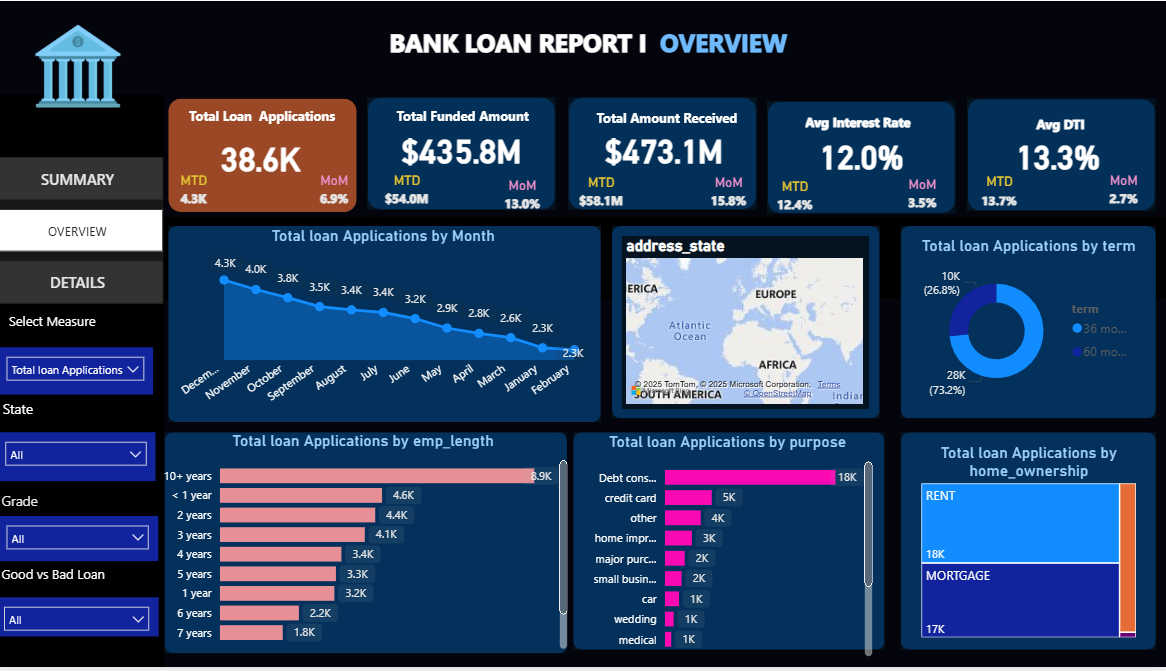

The dashboard page shown, as its layout file describes it:
{"tool":"powerbi","page":{"name":"OVERVIEW","canvas":[1280,720],"ordinal":1},"visuals":[{"type":"shape","box":[0,233.6,1280.2,88],"z":0},{"type":"shape","box":[0,101.4,192,619.2],"z":1000},{"type":"shape","box":[195.4,105,203.9,123.1],"z":2000},{"type":"textbox","box":[421,21.7,459.7,48.3],"z":3000},{"type":"card","fields":{"Values":["bank loan.Total loan Applications"]},"box":[207.5,125.5,178.6,86.9],"z":4000},{"type":"textbox","box":[213.5,109.8,183.4,29],"z":5000},{"type":"card","title":"MTD","fields":{"Values":["bank loan.MTD Loan Applications"]},"box":[188.2,184.6,71.2,44.6],"z":6000},{"type":"shape","box":[411.4,103.8,203.9,121.9],"z":7000},{"type":"card","title":"MoM","fields":{"Values":["bank loan.MoM Loan Applications"]},"box":[339,185.8,72.4,44.6],"z":8000},{"type":"card","fields":{"Values":["bank loan.Total Funded Amount"]},"box":[424.7,115.8,177.3,86.9],"z":9000},{"type":"textbox","box":[437.9,109.8,183.4,29],"z":10000},{"type":"card","title":"MTD","fields":{"Values":["bank loan.MTD Funded Amount"]},"box":[424.7,184.6,59.1,44.6],"z":11000},{"type":"shape","box":[628.6,103.8,203.9,121.9],"z":12000},{"type":"card","title":"MoM","fields":{"Values":["bank loan.MoM Total Funded Amount"]},"box":[544.1,190.6,71.2,44.6],"z":13000},{"type":"card","fields":{"Values":["bank loan.Total Amount Received"]},"box":[643,115.8,177.3,86.9],"z":14000},{"type":"textbox","box":[653.9,112.2,183.4,29],"z":15000},{"type":"card","title":"MTD","fields":{"Values":["bank loan.MTD Total Amount Recived"]},"box":[628.6,188.2,71.2,44.6],"z":16000},{"type":"card","title":"MoM","fields":{"Values":["bank loan.MoM Total Amount Recived"]},"box":[766.1,188.2,71.2,44.6],"z":17000},{"type":"shape","box":[843.3,108.6,203.9,121.9],"z":18000},{"type":"card","fields":{"Values":["bank loan.Avg Intrest Rate"]},"box":[856.6,123.1,177.3,86.9],"z":19000},{"type":"textbox","box":[874.7,141.2,142.4,35],"z":20000},{"type":"card","title":"MTD","fields":{"Values":["bank loan.MTD Avg Int Rate"]},"box":[838.5,191.8,71.2,44.6],"z":21000},{"type":"card","title":"MoM","fields":{"Values":["bank loan.MoM Avg Int Rate"]},"box":[976,189.4,71.2,44.6],"z":22000},{"type":"shape","box":[1059.3,105,203.9,121.9],"z":23000},{"type":"card","fields":{"Values":["bank loan.Avg DTI"]},"box":[1069.5,123.3,177.8,86],"z":24000},{"type":"textbox","box":[880.7,115.8,142.4,35],"z":25000},{"type":"textbox","box":[894.7,161.2,142.4,35],"z":26000},{"type":"card","title":"MTD","fields":{"Values":["bank loan.MTD Avg DTI"]},"box":[1059.3,187,70,41],"z":27000},{"type":"card","title":"MoM","fields":{"Values":["bank loan.MoM Avg DTI"]},"box":[1193.2,184.6,71.2,44.6],"z":28000},{"type":"textbox","box":[1068.9,119.4,183.4,29],"z":29000},{"type":"textbox","box":[240.1,259.4,171.3,29],"z":30000},{"type":"textbox","box":[884.3,150.8,138.7,36.2],"z":31000},{"type":"textbox","box":[876,156.3,139.1,35.8],"z":32000},{"type":"textbox","box":[766.1,254.6,174.9,30.2],"z":33000},{"type":"textbox","box":[240.1,486.2,146,30.2],"z":34000},{"type":"slicer","fields":{"Values":["bank loan.address_state"]},"box":[9.5,466.4,173,52.7],"z":35000},{"type":"textbox","box":[12.2,425.9,67.6,29.7],"z":36000},{"type":"slicer","fields":{"Values":["bank loan.grade"]},"box":[10.8,557,174.4,48.7],"z":37000},{"type":"textbox","box":[10.8,525.9,67.6,31.1],"z":38000},{"type":"slicer","fields":{"Values":["bank loan.Good v Bad Loan"]},"box":[8.4,644.2,177.3,42.2],"z":39000},{"type":"textbox","box":[10.8,605.7,181.2,50],"z":40000},{"type":"shape","box":[196,243.3,467.8,212.3],"z":41000},{"type":"areaChart","fields":{"Y":["bank loan.Total loan Applications"],"Category":["bank loan.Month"]},"box":[202.8,243.3,451.5,208.2],"z":42000},{"type":"slicer","fields":{"Values":["Parameter.Parameter"]},"box":[10.8,374.5,169,51.4],"z":43000},{"type":"textbox","box":[14.9,331.2,116.3,28.4],"z":44000},{"type":"shape","box":[676,243.3,289.3,208.2],"z":45000},{"type":"shape","box":[988.3,243.3,275.8,208.2],"z":46000},{"type":"shape","box":[192,466.4,435.3,239.3],"z":47000},{"type":"barChart","fields":{"Y":["bank loan.Total loan Applications"],"Category":["bank loan.emp_length"]},"box":[181.2,465.1,451.5,240.6],"z":48000},{"type":"shape","box":[634.1,466.4,336.6,235.2],"z":49000},{"type":"barChart","fields":{"Y":["bank loan.Total loan Applications"],"Category":["bank loan.purpose"]},"box":[639.5,466.4,323.1,247.4],"z":50000},{"type":"shape","box":[988.3,466.4,275.8,235.2],"z":51000},{"type":"treemap","fields":{"Values":["bank loan.Total loan Applications"],"Group":["bank loan.home_ownership"]},"box":[1005.8,478.6,242,215],"z":52000},{"type":"image","box":[0,0,196,140.6],"z":53000},{"type":"filledMap","fields":{"Category":["bank loan.address_state"]},"box":[686.8,254.2,266.3,186.6],"z":54000},{"type":"donutChart","fields":{"Y":["bank loan.Total loan Applications"],"Category":["bank loan.term"]},"box":[1005.8,254.2,242,186.6],"z":55000},{"type":"pageNavigator","box":[5.4,169,185.2,158.2],"z":55001}]}

Visuals, with their boxes in screenshot pixels (x1, y1, x2, y2), scaled from the page's 1280x720 canvas onto the 1166x671 screenshot:
shape: region(0, 218, 1165, 300)
shape: region(0, 94, 175, 670)
shape: region(178, 98, 364, 213)
textbox: region(384, 20, 802, 65)
card - bank loan.Total loan Applications: region(189, 117, 352, 198)
textbox: region(194, 102, 362, 129)
"MTD" card: region(171, 172, 236, 214)
shape: region(375, 97, 560, 210)
"MoM" card: region(309, 173, 375, 215)
card - bank loan.Total Funded Amount: region(387, 108, 548, 189)
textbox: region(399, 102, 566, 129)
"MTD" card: region(387, 172, 441, 214)
shape: region(573, 97, 758, 210)
"MoM" card: region(496, 178, 560, 219)
card - bank loan.Total Amount Received: region(586, 108, 747, 189)
textbox: region(596, 105, 763, 132)
"MTD" card: region(573, 175, 637, 217)
"MoM" card: region(698, 175, 763, 217)
shape: region(768, 101, 954, 215)
card - bank loan.Avg Intrest Rate: region(780, 115, 942, 196)
textbox: region(797, 132, 927, 164)
"MTD" card: region(764, 179, 829, 220)
"MoM" card: region(889, 177, 954, 218)
shape: region(965, 98, 1151, 211)
card - bank loan.Avg DTI: region(974, 115, 1136, 195)
textbox: region(802, 108, 932, 141)
textbox: region(815, 150, 945, 183)
"MTD" card: region(965, 174, 1029, 212)
"MoM" card: region(1087, 172, 1152, 214)
textbox: region(974, 111, 1141, 138)
textbox: region(219, 242, 375, 269)
textbox: region(806, 141, 932, 174)
textbox: region(798, 146, 925, 179)
textbox: region(698, 237, 857, 265)
textbox: region(219, 453, 352, 481)
slicer - bank loan.address_state: region(9, 435, 166, 484)
textbox: region(11, 397, 73, 425)
slicer - bank loan.grade: region(10, 519, 169, 564)
textbox: region(10, 490, 71, 519)
slicer - bank loan.Good v Bad Loan: region(8, 600, 169, 640)
textbox: region(10, 564, 175, 611)
shape: region(179, 227, 605, 425)
areaChart - bank loan.Total loan Applications x bank loan.Month: region(185, 227, 596, 421)
slicer - Parameter.Parameter: region(10, 349, 164, 397)
textbox: region(14, 309, 120, 335)
shape: region(616, 227, 879, 421)
shape: region(900, 227, 1152, 421)
shape: region(175, 435, 571, 658)
barChart - bank loan.Total loan Applications x bank loan.emp_length: region(165, 433, 576, 658)
shape: region(578, 435, 884, 654)
barChart - bank loan.Total loan Applications x bank loan.purpose: region(583, 435, 877, 665)
shape: region(900, 435, 1152, 654)
treemap - bank loan.Total loan Applications x bank loan.home_ownership: region(916, 446, 1137, 646)
image: region(0, 0, 179, 131)
filledMap - bank loan.address_state: region(626, 237, 868, 411)
donutChart - bank loan.Total loan Applications x bank loan.term: region(916, 237, 1137, 411)
pageNavigator: region(5, 157, 174, 305)
